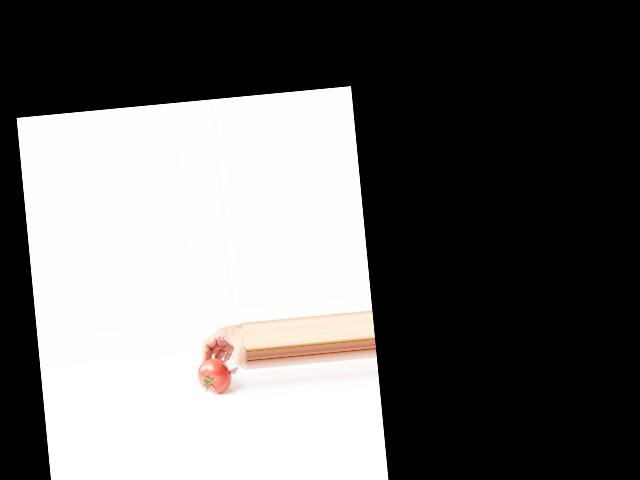tomato: (196, 356, 232, 395)
